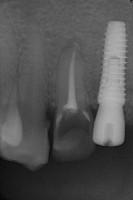Furcation Involvement: (9, 0, 51, 26), (57, 35, 88, 66)
